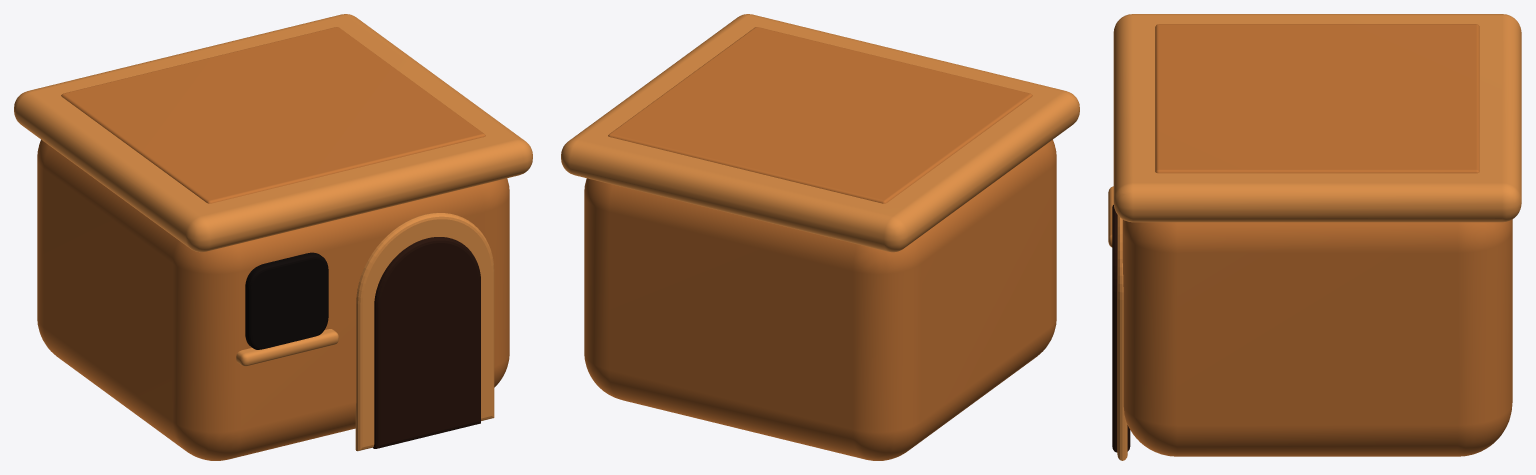
Rendered from adobe_small.glb.
The picture shows the model from 3 angles, left to right: view 1: azimuth 30°, elevation 25°; view 2: azimuth 150°, elevation 25°; view 3: azimuth 270°, elevation 25°; orthographic projection. The views are drawn at different scales.
Parts seen in each view (by area): view 1: adobe_small; view 2: adobe_small; view 3: adobe_small.
Boxes of the visible parts, x1,y1,x2,y2 form: adobe_small: (14, 14, 532, 460); adobe_small: (561, 14, 1079, 460); adobe_small: (1108, 14, 1521, 460).
Size of the model in its own units: 3.34 by 2.5 by 3.18.
